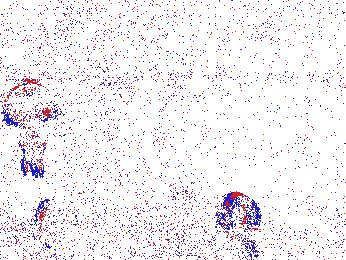flame jellyfish: (3, 82, 61, 179), (31, 197, 78, 250), (215, 194, 263, 238)
